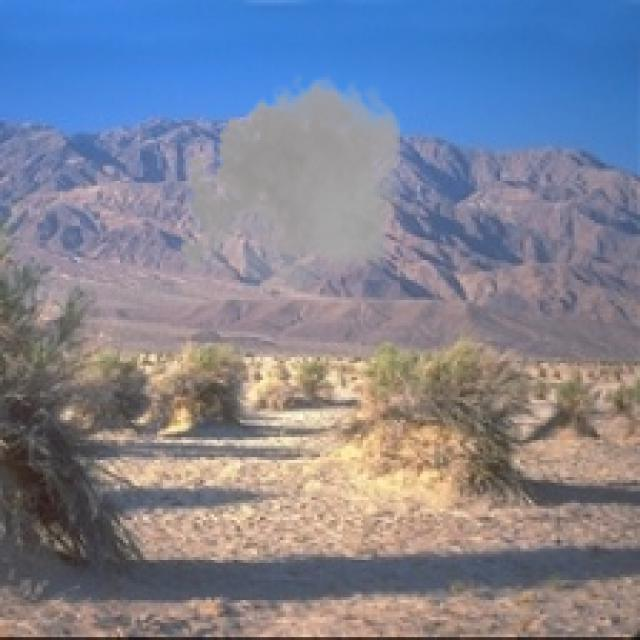Smoke: (172, 69, 412, 308)
